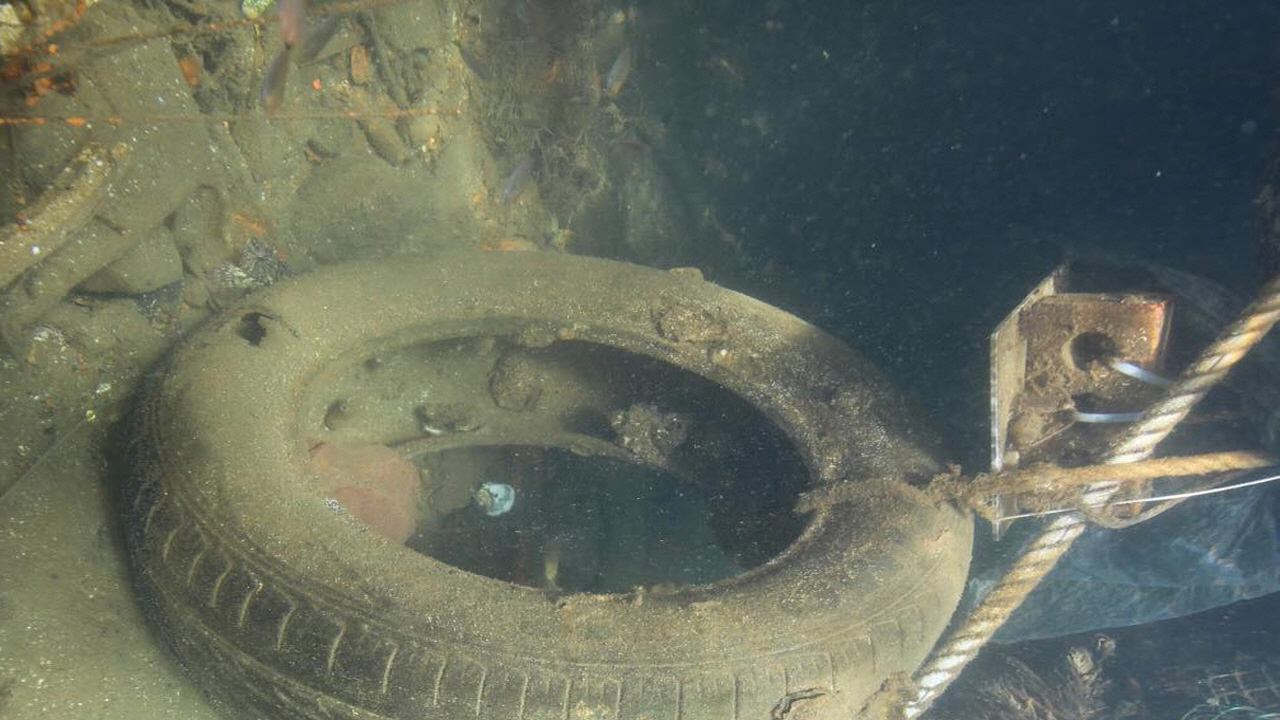bundle of ropes: (903, 287, 1280, 720)
tire: (117, 250, 977, 720)
